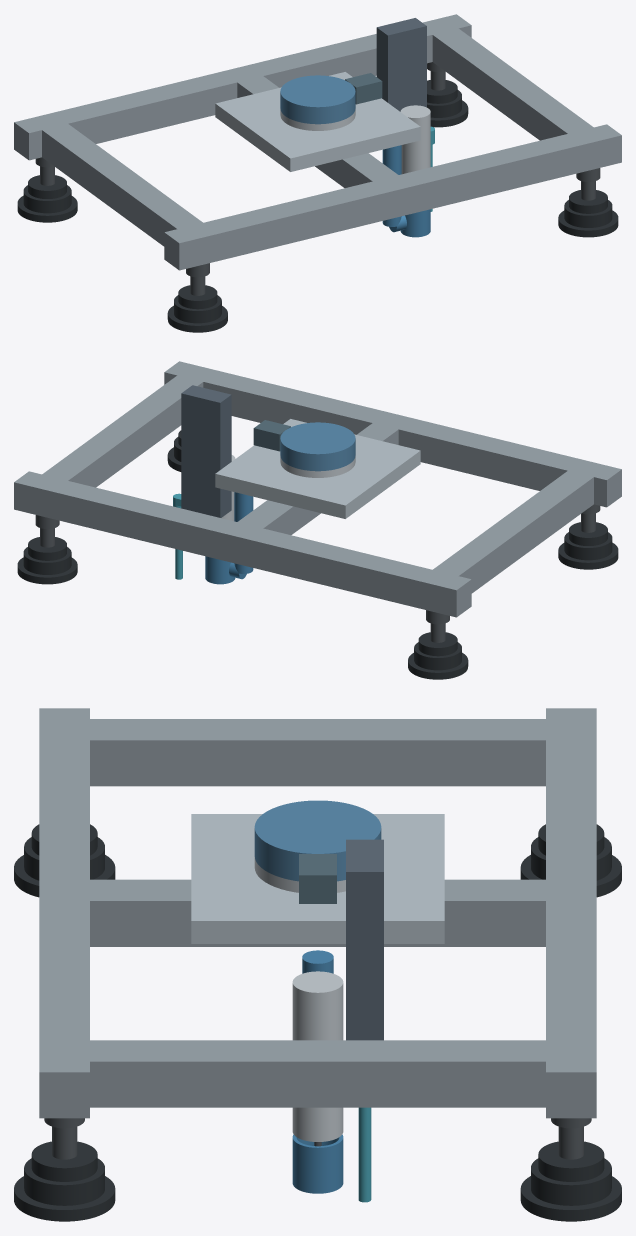
Rendered from TOOL02_R03_outline_assembly.glb.
3 views of the same model, one above another, from view 1: azimuth 30°, elevation 25°; view 2: azimuth 150°, elevation 25°; view 3: azimuth 270°, elevation 25° (orthographic). The views are drawn at different scales.
Parts seen in each view (by area): view 1: 008_frame_profile_40x40, 009_frame_profile_40x40, 013_hub_plate, 010_frame_profile_40x40, 012_frame_profile_40x40, 017_pneumatic_slide_stroke80, 015_changer_tool_plate_D100, 011_frame_profile_40x40, 004_suction_cup_D80, 000_suction_cup_D80, 002_suction_cup_D80, 018_cutting_spindle_D40 (+7 smaller); view 2: 009_frame_profile_40x40, 008_frame_profile_40x40, 013_hub_plate, 010_frame_profile_40x40, 012_frame_profile_40x40, 017_pneumatic_slide_stroke80, 015_changer_tool_plate_D100, 011_frame_profile_40x40, 006_suction_cup_D80, 002_suction_cup_D80, 000_suction_cup_D80, 016_pass_through_module_tool_side (+5 smaller); view 3: 010_frame_profile_40x40, 012_frame_profile_40x40, 008_frame_profile_40x40, 009_frame_profile_40x40, 013_hub_plate, 011_frame_profile_40x40, 017_pneumatic_slide_stroke80, 015_changer_tool_plate_D100, 004_suction_cup_D80, 006_suction_cup_D80, 018_cutting_spindle_D40, 020_chip_suction_hood_D40 (+6 smaller).
Boxes of the visible parts, box(x1,y1,x2,y2) form: 008_frame_profile_40x40: box(164, 124, 621, 270); 009_frame_profile_40x40: box(14, 14, 471, 160); 013_hub_plate: box(215, 72, 420, 171); 010_frame_profile_40x40: box(42, 124, 202, 246); 012_frame_profile_40x40: box(432, 28, 593, 140); 017_pneumatic_slide_stroke80: box(376, 18, 426, 111); 015_changer_tool_plate_D100: box(280, 75, 355, 124); 011_frame_profile_40x40: box(237, 76, 398, 187); 004_suction_cup_D80: box(558, 190, 618, 237); 000_suction_cup_D80: box(167, 285, 227, 332); 002_suction_cup_D80: box(17, 175, 77, 222); 018_cutting_spindle_D40: box(400, 105, 430, 174); 009_frame_profile_40x40: box(14, 471, 471, 617); 008_frame_profile_40x40: box(164, 361, 621, 507); 013_hub_plate: box(215, 419, 420, 518); 010_frame_profile_40x40: box(433, 471, 593, 593); 012_frame_profile_40x40: box(42, 375, 203, 487); 017_pneumatic_slide_stroke80: box(181, 385, 231, 517); 015_changer_tool_plate_D100: box(280, 422, 355, 471); 011_frame_profile_40x40: box(237, 423, 398, 534); 006_suction_cup_D80: box(17, 537, 77, 584); 002_suction_cup_D80: box(408, 632, 468, 679); 000_suction_cup_D80: box(558, 522, 618, 569); 016_pass_through_module_tool_side: box(253, 420, 290, 451); 010_frame_profile_40x40: box(90, 719, 545, 786); 012_frame_profile_40x40: box(90, 1040, 545, 1107); 008_frame_profile_40x40: box(39, 708, 89, 1118); 009_frame_profile_40x40: box(546, 708, 596, 1118); 013_hub_plate: box(191, 814, 444, 943); 011_frame_profile_40x40: box(90, 879, 545, 946); 017_pneumatic_slide_stroke80: box(346, 839, 383, 1040); 015_changer_tool_plate_D100: box(254, 800, 381, 881); 004_suction_cup_D80: box(14, 1141, 115, 1221); 006_suction_cup_D80: box(520, 1141, 621, 1221); 018_cutting_spindle_D40: box(292, 971, 343, 1141); 020_chip_suction_hood_D40: box(292, 1134, 343, 1193).
Size of the model in its own units: 0.68 by 0.29 by 0.48.
